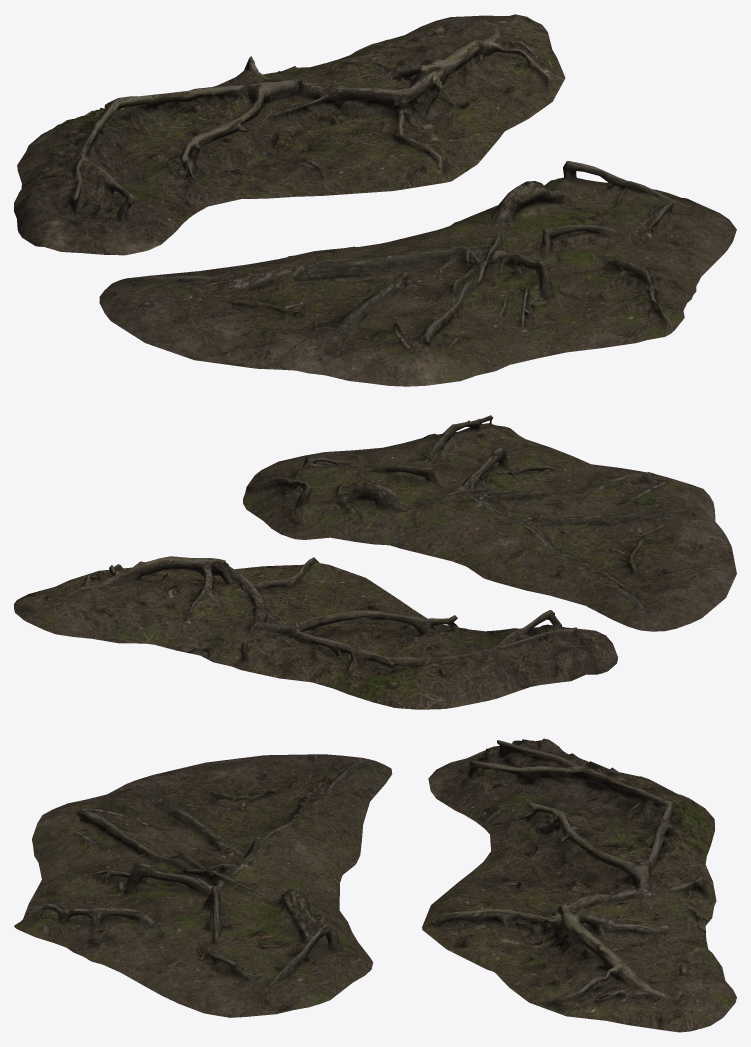
File: ph_pine_roots.glb
3 renders of one model, top to bottom at view 1: azimuth 30°, elevation 25°; view 2: azimuth 150°, elevation 25°; view 3: azimuth 270°, elevation 25°, orthographic. The views are drawn at different scales.
Visible parts, largest first — view 1: pine_roots_b, pine_roots_a; view 2: pine_roots_b, pine_roots_a; view 3: pine_roots_b, pine_roots_a.
Part boxes in pixels (<box>): pine_roots_b: <box>99,161,736,386</box>; pine_roots_a: <box>14,14,565,255</box>; pine_roots_b: <box>243,415,736,631</box>; pine_roots_a: <box>14,556,618,709</box>; pine_roots_b: <box>14,754,392,1017</box>; pine_roots_a: <box>422,738,736,1032</box>.
Bounding box in the file's own units: 1.77 × 0.1538 × 1.89.
Materials: 2 (2 with a texture image).
